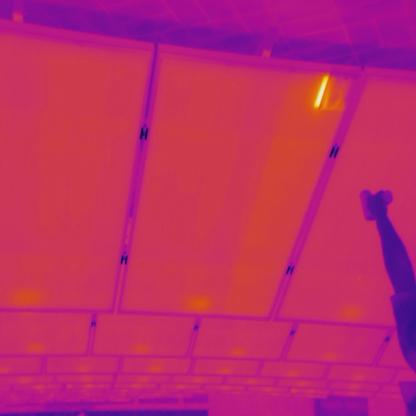hotspot: (312, 75, 350, 111)
